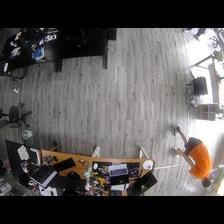fall: (173, 124, 211, 188)
